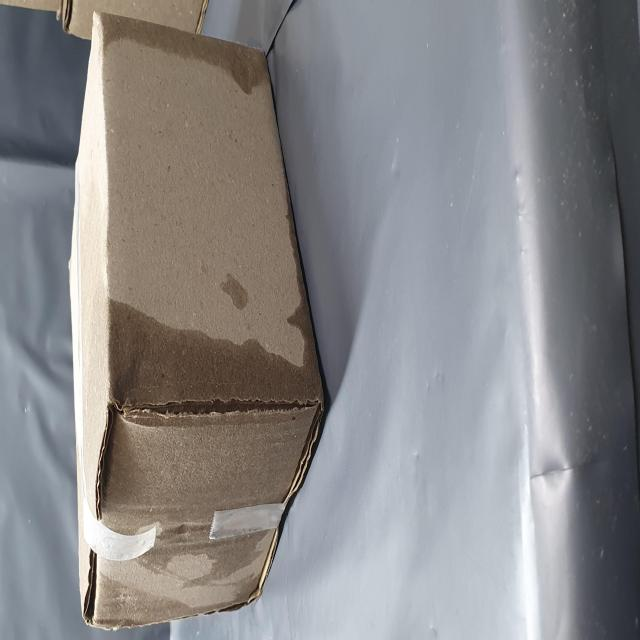wet: (62, 141, 202, 572), (0, 155, 62, 470), (293, 182, 346, 498)
